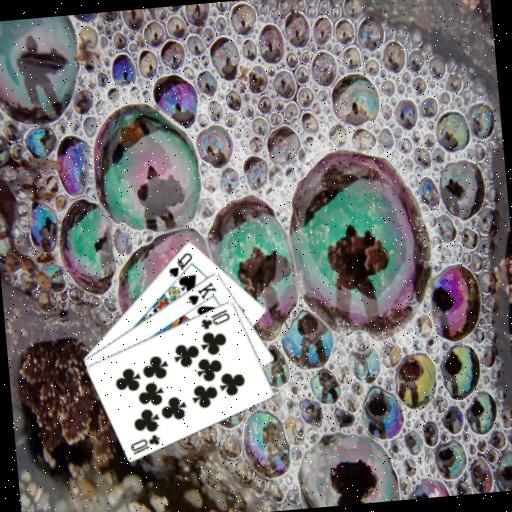10C: (197, 306, 233, 332), (127, 431, 163, 457)
KS: (183, 278, 219, 307)
QS: (165, 249, 196, 280)
